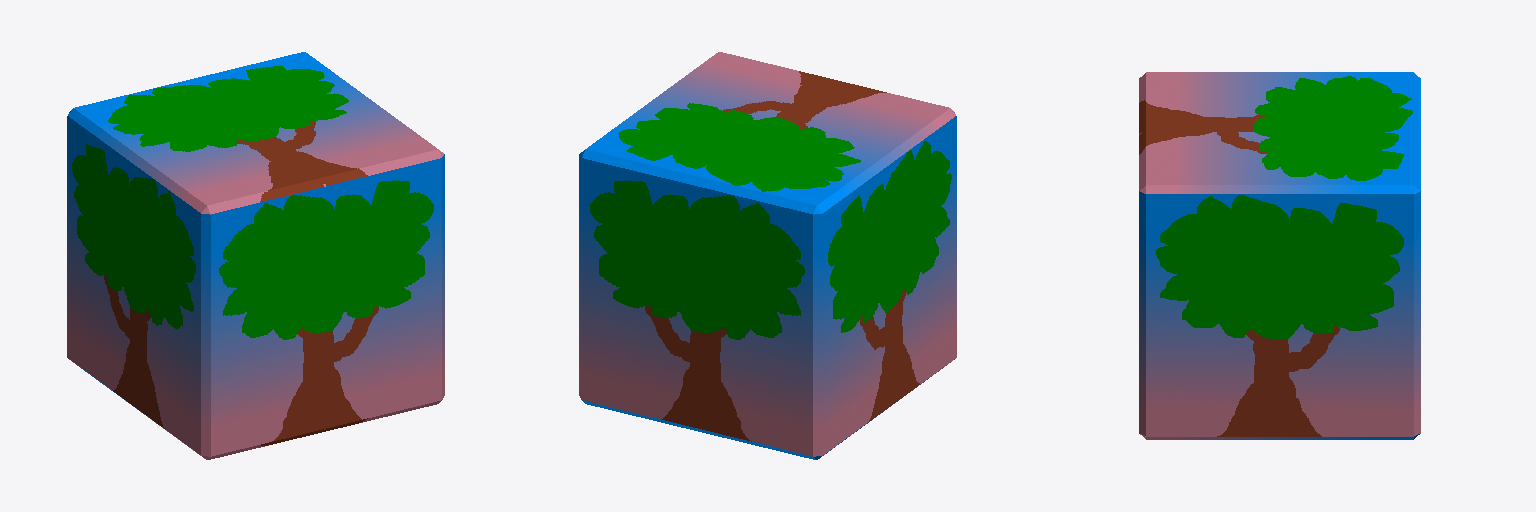
The picture shows the model from 3 angles: view 1: azimuth 30°, elevation 25°; view 2: azimuth 150°, elevation 25°; view 3: azimuth 270°, elevation 25°; orthographic projection.
Parts seen in each view (by area): view 1: Cube; view 2: Cube; view 3: Cube.
Boxes of the visible parts, x1=… form: Cube: x1=67, y1=52, x2=444, y2=459; Cube: x1=579, y1=52, x2=956, y2=459; Cube: x1=1139, y1=72, x2=1420, y2=439.
Bounding box in the file's own units: 2 × 2 × 2.
1 materials, 1 textured.